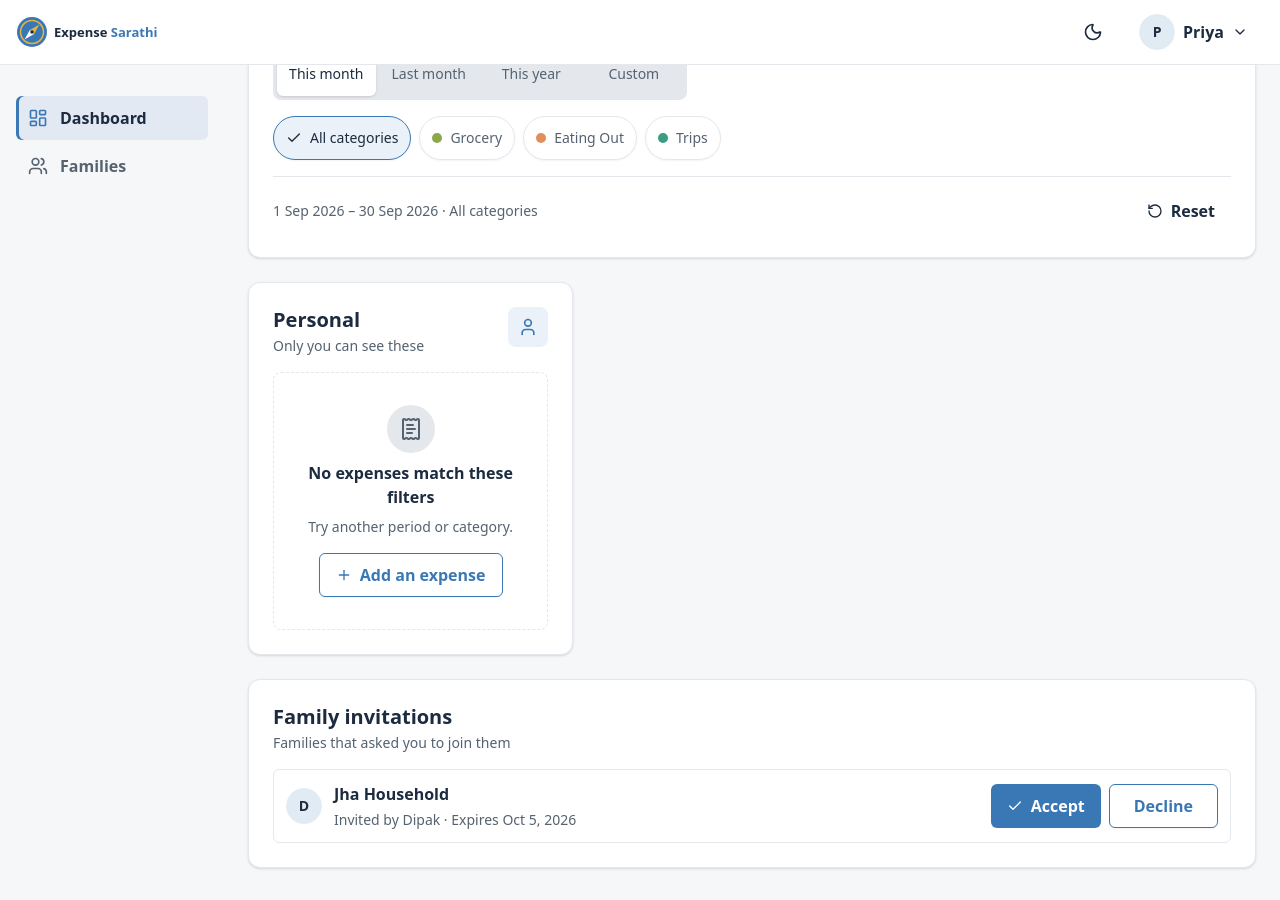
Test case: Dashboard invitations › declines an invitation after confirming and removes it
This screenshot has width=1280, height=900.
(page scrolled)
Click the button with aria-label "Decline invitation to Jha Household" at (1163, 806), box [1109, 784, 1218, 828]
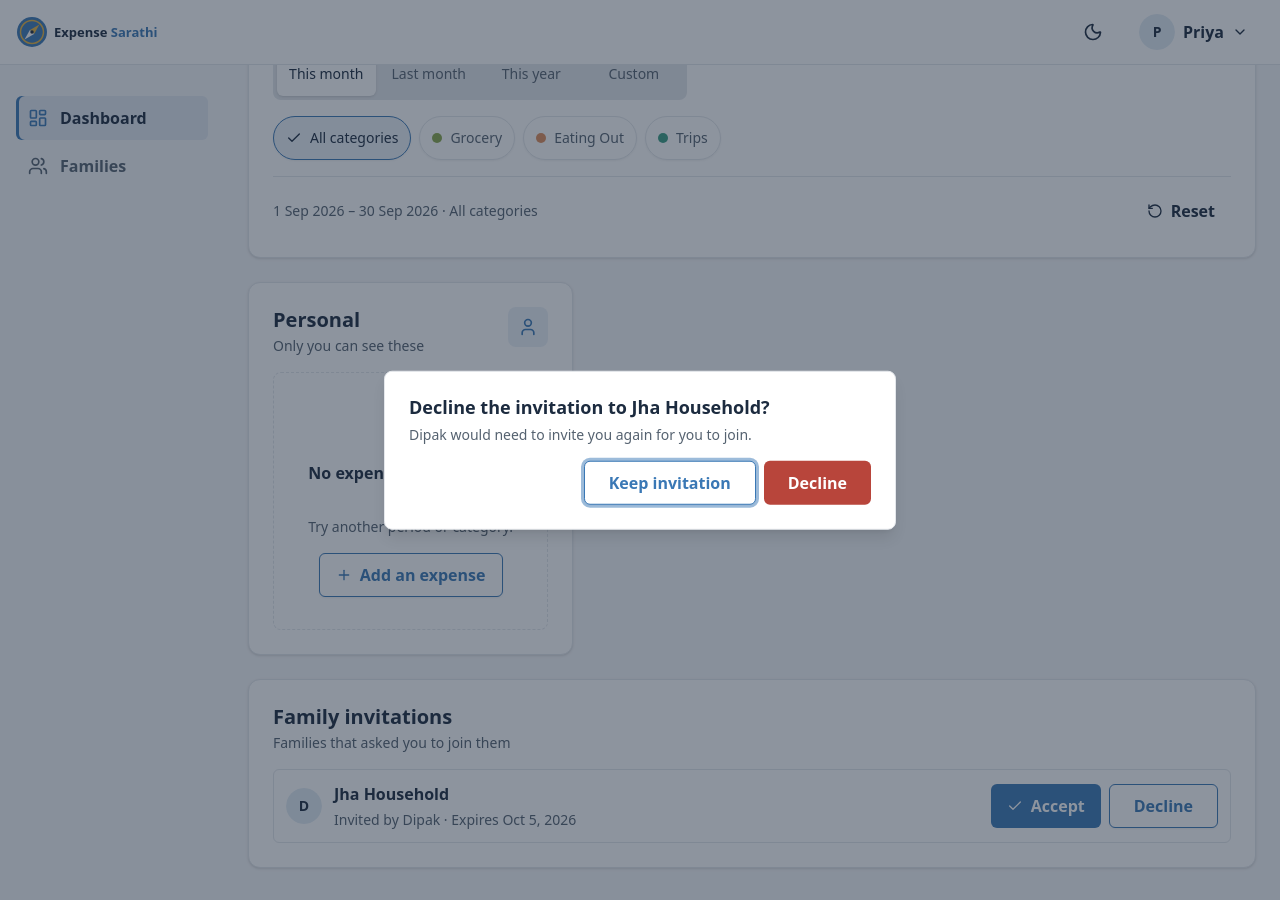
Click the button "Decline" at (817, 482), box [764, 460, 871, 504]
(page scrolled)
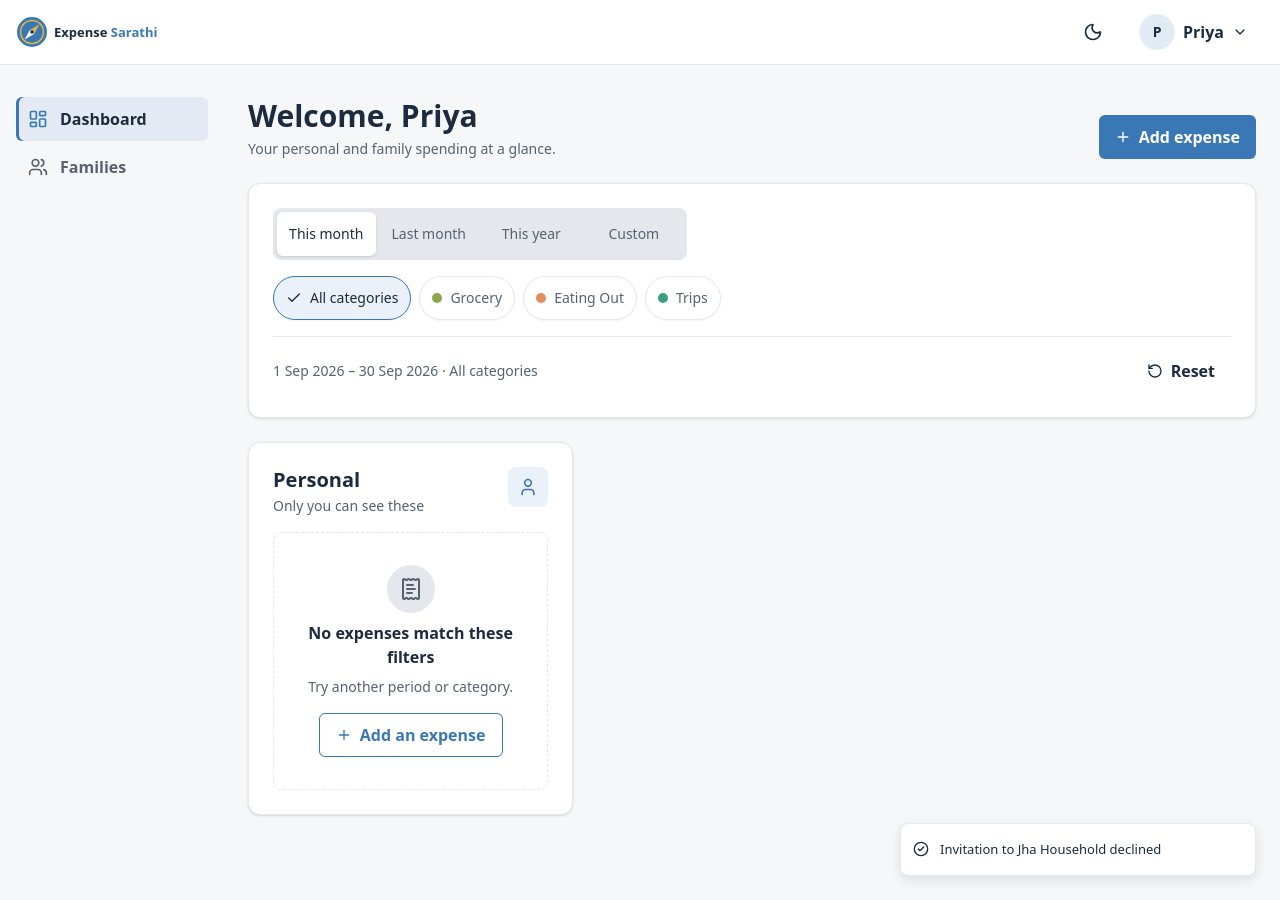
Expected: the text "Invitation to Jha Household declined" is shown, [940, 840, 1161, 859]
